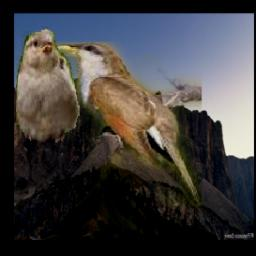Cuckoo: (53, 43, 201, 206)
Sparrow: (16, 27, 80, 152)
